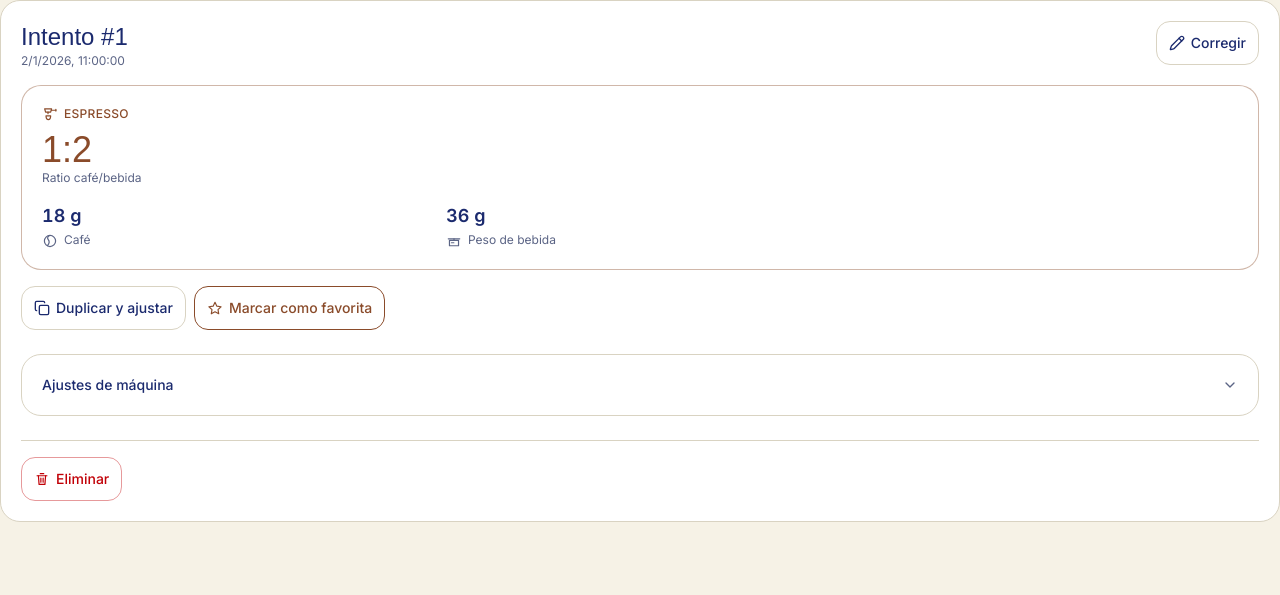
Scenario: AttemptDetailPanel machine settings › opens them on demand
Click the button "Ajustes de máquina" at [108, 384], box [22,355,1258,415]
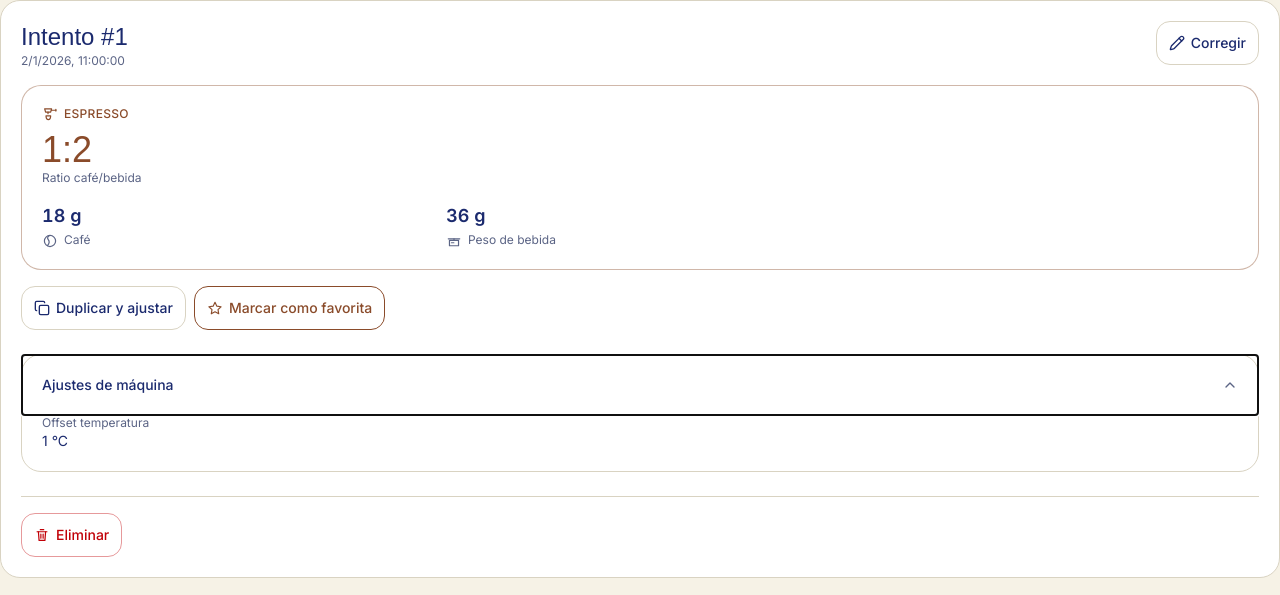
Check: the text "Offset temperatura" is shown, box [42,415,149,430]
Check: the text "1 °C" is shown, box [42,432,68,449]
